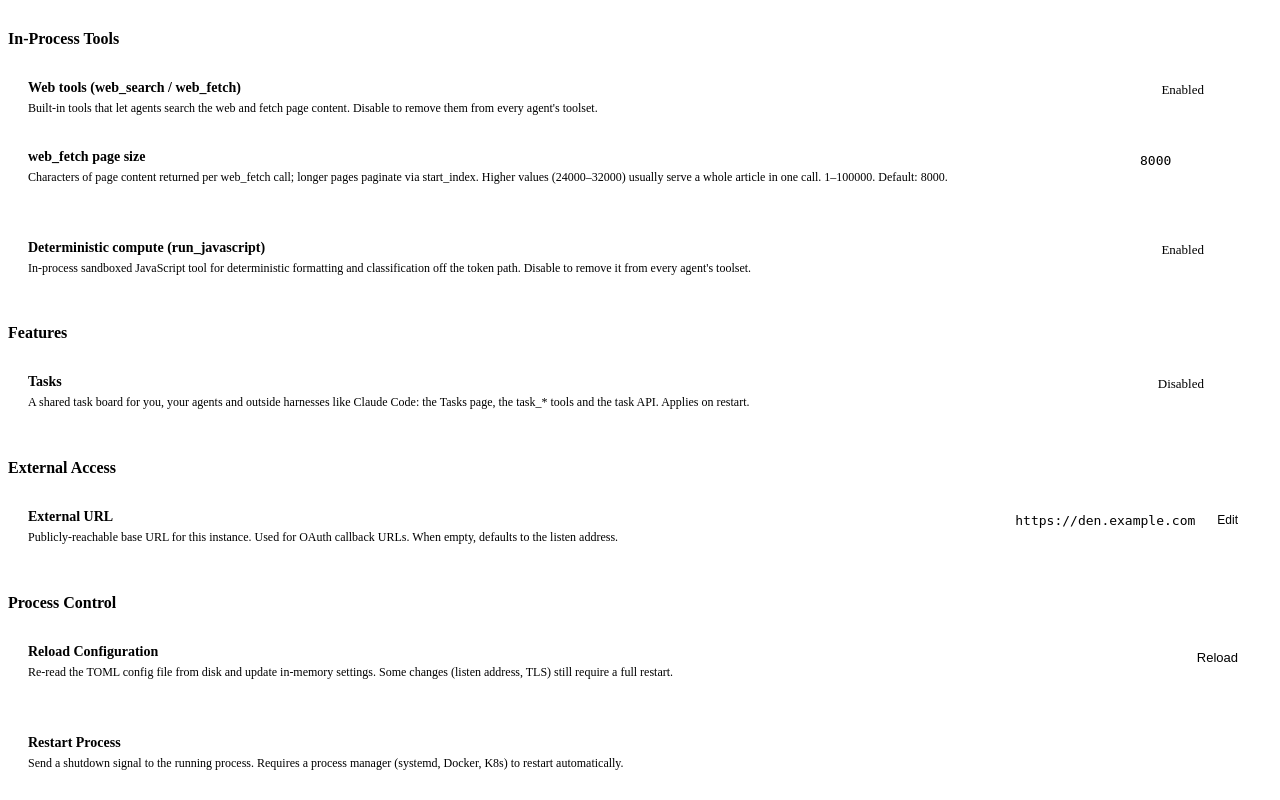
Test: ServerConfig page › Cancel returns to view mode
The image size is (1280, 800).
(page scrolled)
Click the button "Edit": (1228, 520) [1207,509,1248,531]
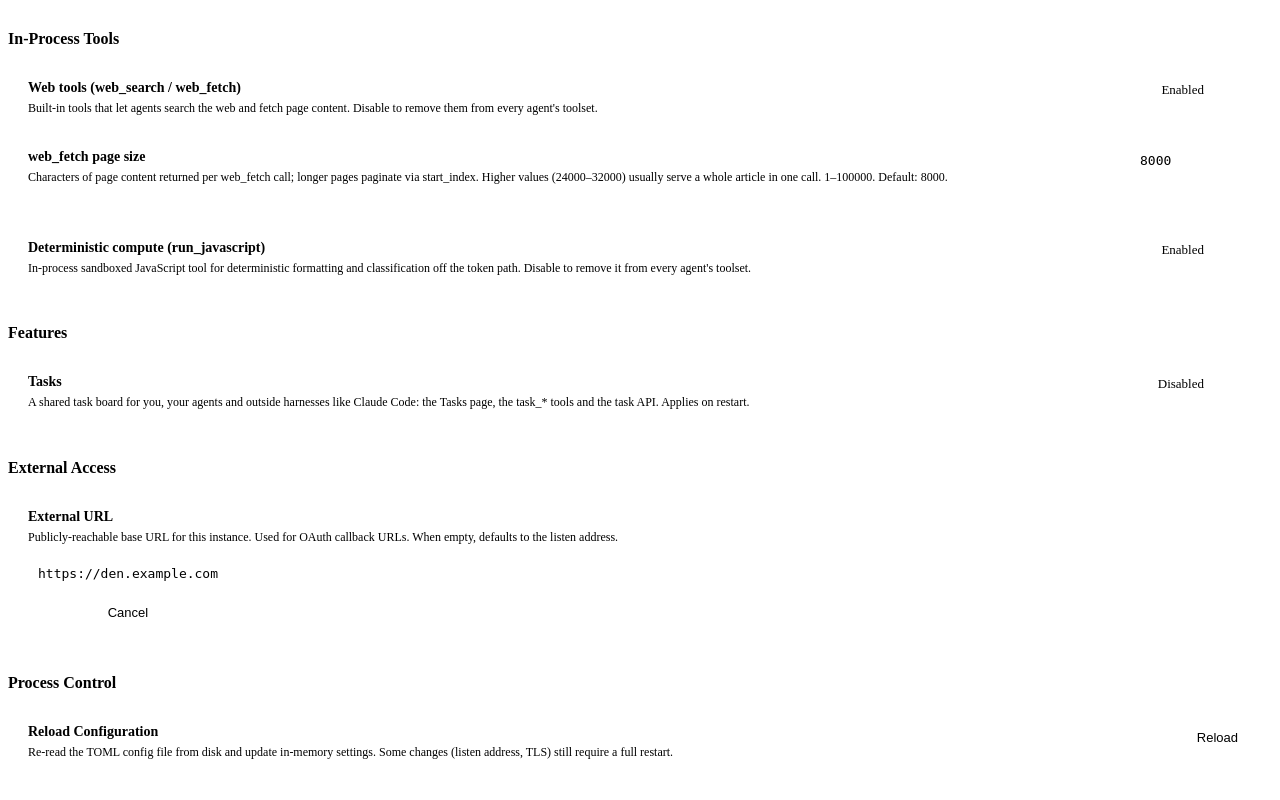
Now the field is shown, box [28,558,1272,589]
Click the button "Cancel": (128, 612) [94,599,162,626]
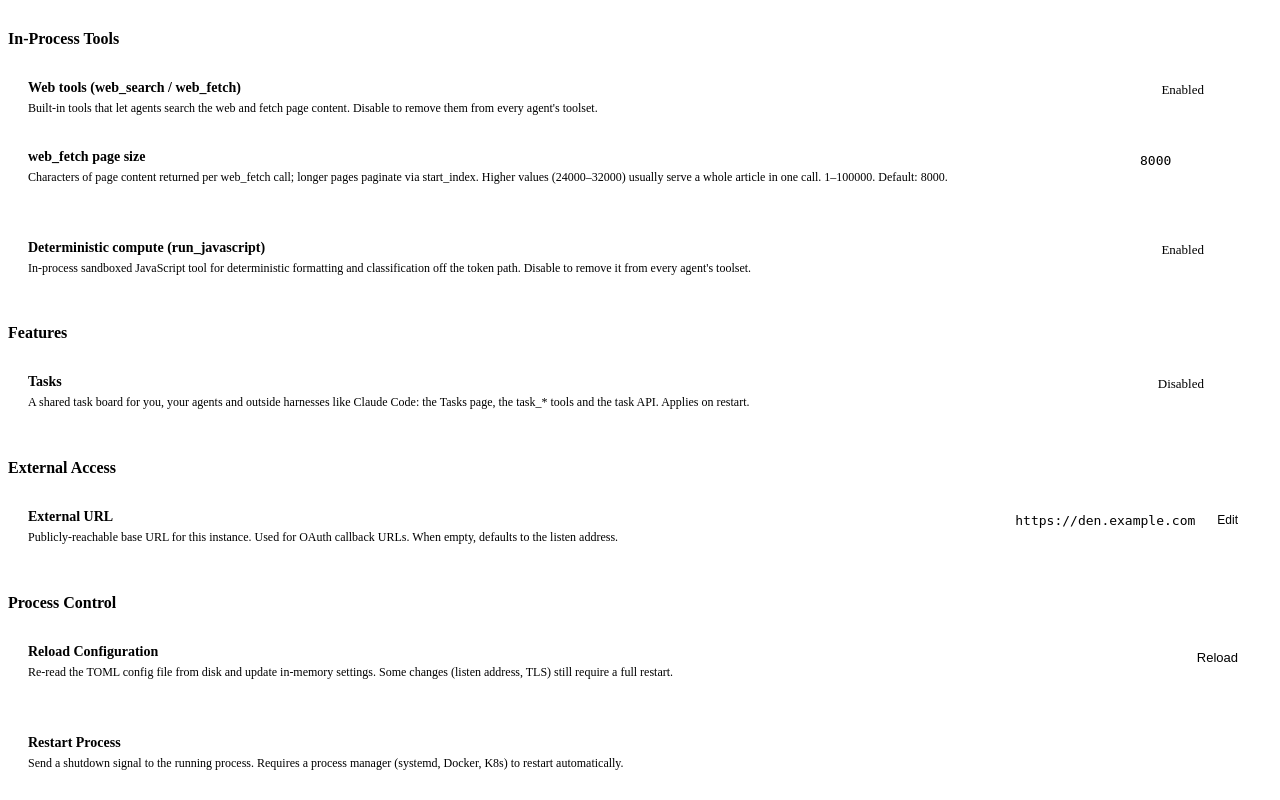
Now the field is gone
